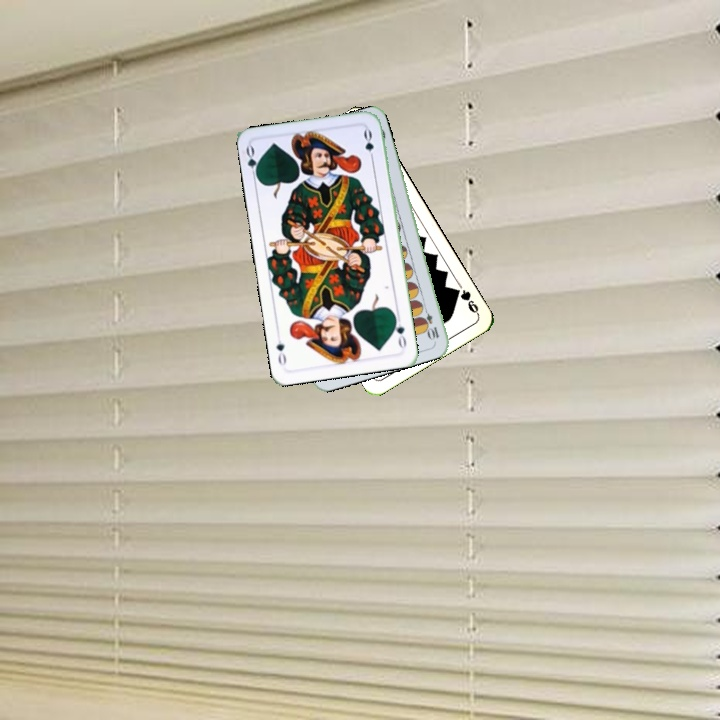E10: (419, 302, 442, 342)
G9: (450, 284, 481, 317)
GO: (242, 142, 262, 183), (390, 311, 409, 351)
